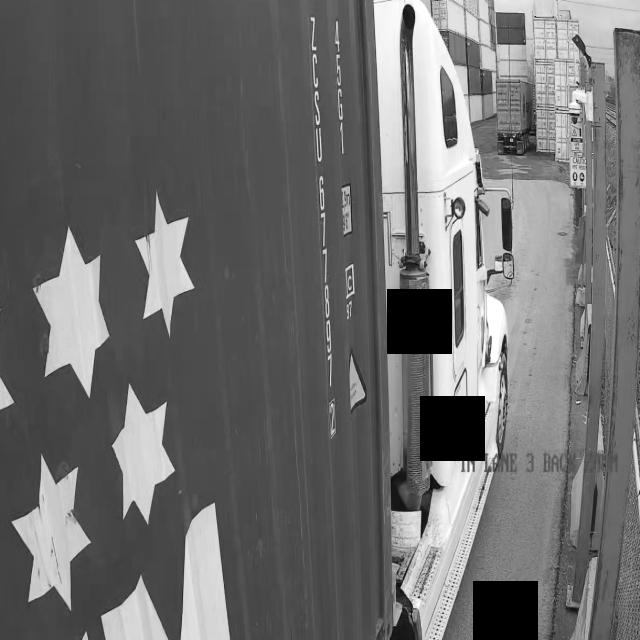container_side_no: (304, 4, 349, 456)
truck_with_container: (0, 0, 527, 640)
